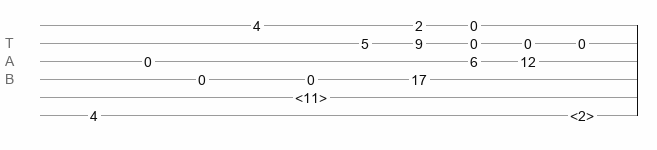0: (144, 54, 152, 64), (198, 72, 206, 82), (307, 72, 315, 82), (470, 36, 478, 46), (470, 18, 478, 28), (524, 36, 532, 46), (578, 36, 586, 46)
12: (520, 54, 536, 64)
17: (411, 72, 427, 82)
2: (415, 18, 423, 28)
4: (90, 108, 98, 118), (253, 18, 261, 28)
5: (361, 36, 369, 46)
6: (470, 54, 478, 64)
9: (415, 36, 423, 46)
harmonic: (295, 90, 327, 100), (570, 108, 594, 118)
